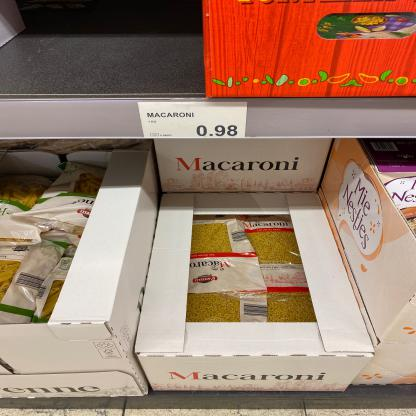prtg: (139, 103, 248, 138)
